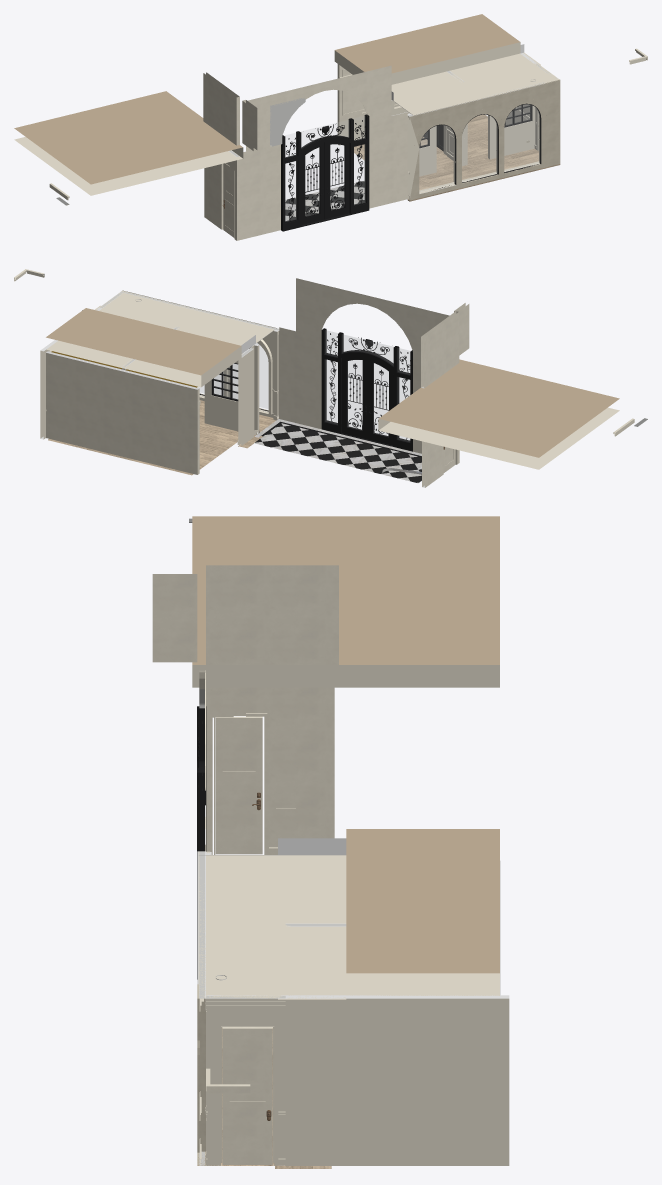
The model's file is office-hall-9ca04266faa6.glb.
3 views of the same model, one above another, from view 1: azimuth 30°, elevation 25°; view 2: azimuth 150°, elevation 25°; view 3: azimuth 270°, elevation 25° (orthographic). The views are drawn at different scales.
Visible parts, largest first — view 1: office-hall-look-2575515a05775d9e, office-hall-look-d5a4a1b5d3594c04, office-hall-c9e78b9ec1bb39cd, office-hall-look-34525a54e63b733b, office-hall-dbd60ee5c3733ed6, office-hall-look-d940cbb696ed07bc, office-hall-look-74640f87451038c4, office-hall-38561c12898e4d43, office-hall-c02a36d0521470a9, office-hall-5cbcc744e6f960f3, office-hall-look-746250f96522f643, office-hall-look-dbd60ee5c3733ed6 (+16 smaller); view 2: office-hall-look-2575515a05775d9e, office-hall-look-19647d6da46c2b80, office-hall-look-d5a4a1b5d3594c04, office-hall-look-c4ac463b6a960119, office-hall-look-34525a54e63b733b, office-hall-dbd60ee5c3733ed6, office-hall-look-74640f87451038c4, office-hall-look-d940cbb696ed07bc, office-hall-look-eb9cd55acea588ff, office-hall-look-746250f96522f643, office-hall-look-1f8bba4dc0c31714, office-hall-look-6a051330000fbca1 (+17 smaller); view 3: office-hall-look-2575515a05775d9e, office-hall-look-6a1144f4e43410bb, office-hall-look-746250f96522f643, office-hall-look-85f0fd939e0fcc78, office-hall-dbd60ee5c3733ed6, office-hall-look-dbd60ee5c3733ed6, office-hall-cf6d22c5317ced0b, office-hall-look-3322bc58bedf5620, office-hall-68d06b361ac47823, office-hall-look-5e296beffb47d853, office-hall-c9e78b9ec1bb39cd, office-hall-look-d940cbb696ed07bc.
Part boxes in pixels (x1,y1,x2,y2): office-hall-look-2575515a05775d9e: (14,14,520,195); office-hall-look-d5a4a1b5d3594c04: (236,112,407,240); office-hall-c9e78b9ec1bb39cd: (407,82,545,200); office-hall-look-34525a54e63b733b: (246,65,391,151); office-hall-dbd60ee5c3733ed6: (392,63,559,115); office-hall-look-d940cbb696ed07bc: (281,114,369,231); office-hall-look-74640f87451038c4: (285,116,365,221); office-hall-38561c12898e4d43: (419,125,454,191); office-hall-c02a36d0521470a9: (462,115,497,180); office-hall-5cbcc744e6f960f3: (504,104,539,170); office-hall-look-746250f96522f643: (203,72,239,145); office-hall-look-dbd60ee5c3733ed6: (391,44,540,100); office-hall-look-2575515a05775d9e: (46,308,619,469); office-hall-look-19647d6da46c2b80: (46,351,199,474); office-hall-look-d5a4a1b5d3594c04: (279,327,459,462); office-hall-look-c4ac463b6a960119: (254,423,421,483); office-hall-look-34525a54e63b733b: (296,278,449,361); office-hall-dbd60ee5c3733ed6: (99,290,276,346); office-hall-look-74640f87451038c4: (325,330,410,441); office-hall-look-d940cbb696ed07bc: (321,328,412,451); office-hall-look-eb9cd55acea588ff: (341,355,367,439); office-hall-look-746250f96522f643: (421,311,459,388); office-hall-look-1f8bba4dc0c31714: (367,357,393,445); office-hall-look-6a051330000fbca1: (238,347,253,445); office-hall-look-2575515a05775d9e: (192,516,499,995); office-hall-look-6a1144f4e43410bb: (285,995,509,1165); office-hall-look-746250f96522f643: (206,565,338,664); office-hall-look-85f0fd939e0fcc78: (206,687,334,854); office-hall-dbd60ee5c3733ed6: (198,855,292,998); office-hall-look-dbd60ee5c3733ed6: (278,838,346,999); office-hall-cf6d22c5317ced0b: (222,1028,272,1164); office-hall-look-3322bc58bedf5620: (215,716,262,854); office-hall-68d06b361ac47823: (206,995,285,1165); office-hall-look-5e296beffb47d853: (152,574,197,662); office-hall-c9e78b9ec1bb39cd: (197,851,205,1151); office-hall-look-d940cbb696ed07bc: (197,706,206,979).
Bounding box in the file's own units: 21.96 × 5.17 × 5.78.
Materials: 33 (7 with a texture image).
